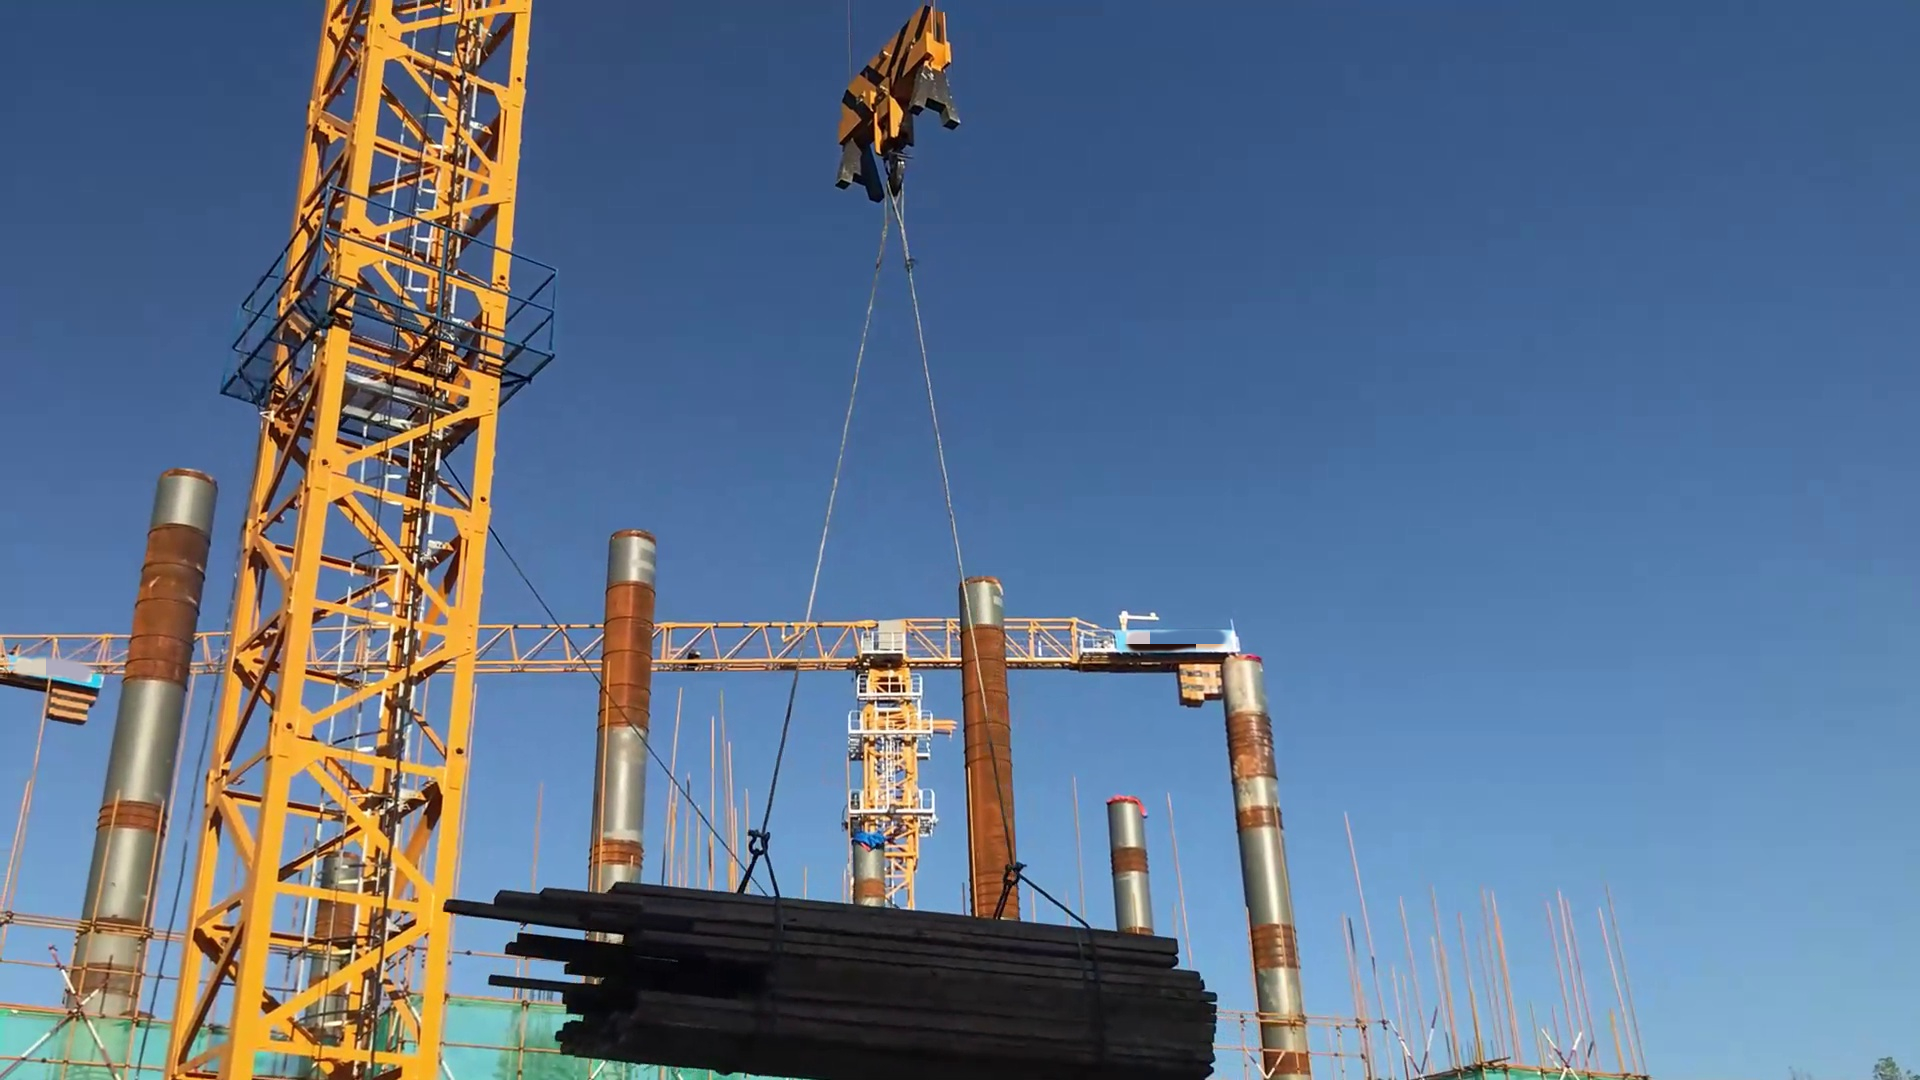hook: (837, 5, 963, 202)
wood: (438, 878, 1217, 1080)
